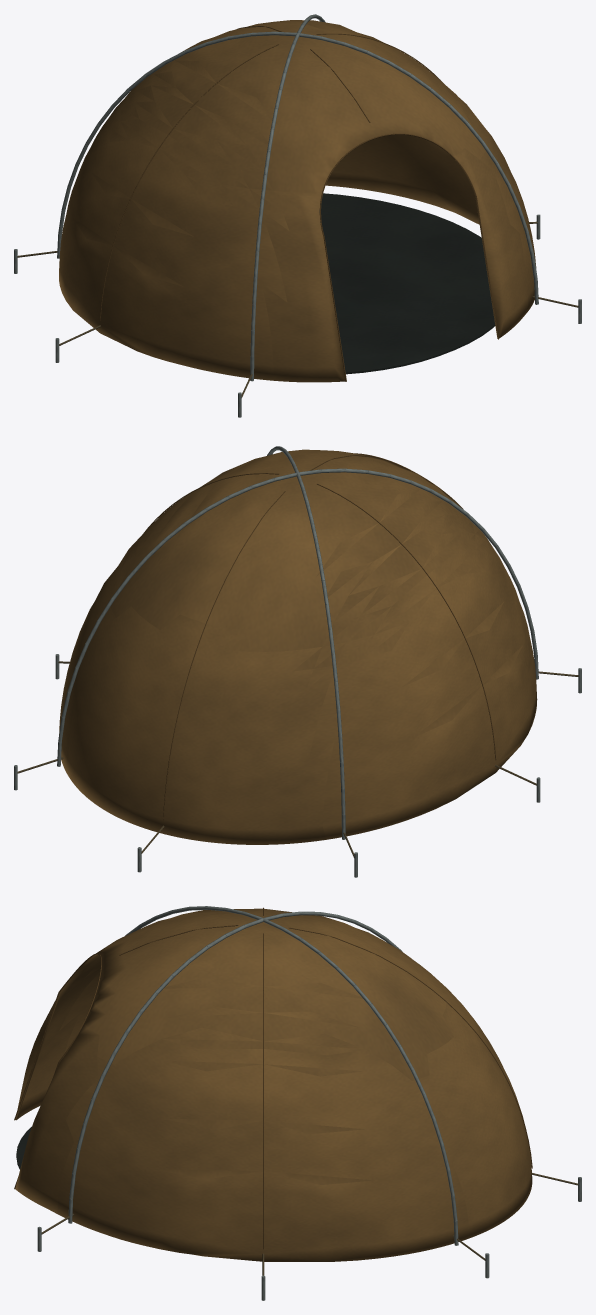
File: level_camp_tent_fitted_pitch_04_siteart.glb
3 renders of one model, top to bottom at view 1: azimuth 30°, elevation 25°; view 2: azimuth 150°, elevation 25°; view 3: azimuth 270°, elevation 25°, orthographic.
Parts seen in each view (by area): view 1: level_camp_tent_fitted_pitch_04_siteart; view 2: level_camp_tent_fitted_pitch_04_siteart; view 3: level_camp_tent_fitted_pitch_04_siteart.
Part boxes in pixels (x1,y1,x2,y2): level_camp_tent_fitted_pitch_04_siteart: (14, 14, 581, 417); level_camp_tent_fitted_pitch_04_siteart: (14, 446, 581, 877); level_camp_tent_fitted_pitch_04_siteart: (14, 906, 581, 1300).
Size of the model in its own units: 3.44 by 1.92 by 3.49.
5 materials, 5 textured.
